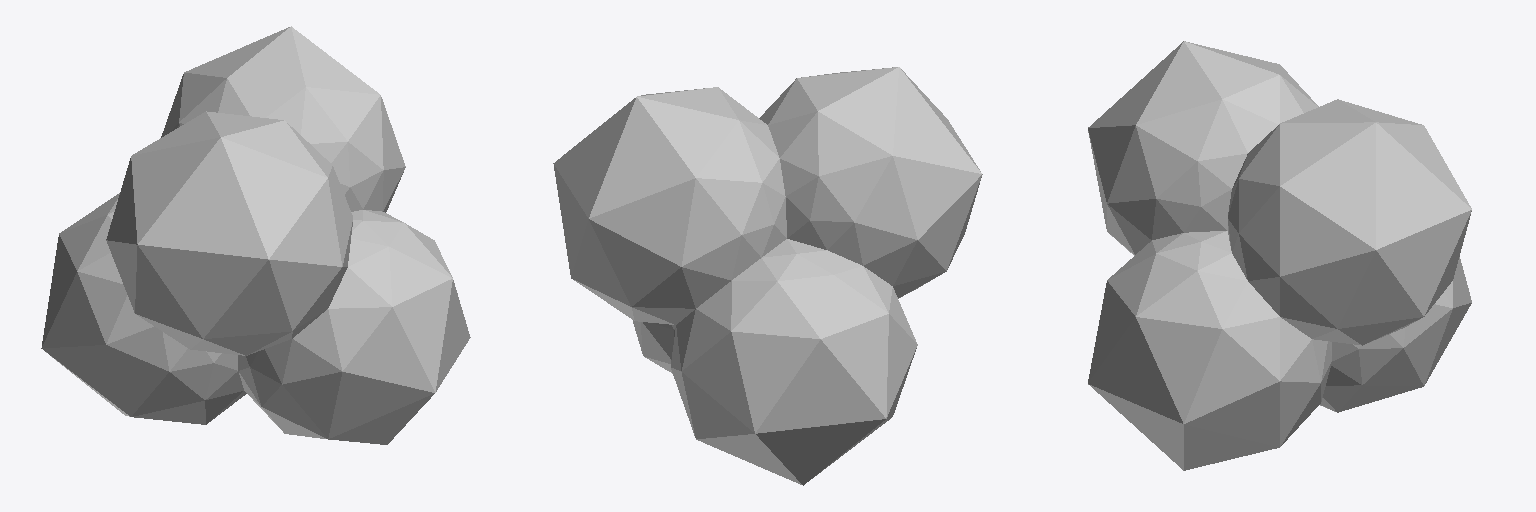
The model's file is multi-box.obj.
3 renders of one model, left to right at view 1: azimuth 30°, elevation 25°; view 2: azimuth 150°, elevation 25°; view 3: azimuth 270°, elevation 25°, orthographic.
Parts seen in each view (by area): view 1: Dual of TetrahedralParaboloidIntersections; view 2: Dual of TetrahedralParaboloidIntersections; view 3: Dual of TetrahedralParaboloidIntersections.
Boxes of the visible parts, box(x1,y1,x2,y2) form: Dual of TetrahedralParaboloidIntersections: box(41, 26, 470, 444); Dual of TetrahedralParaboloidIntersections: box(553, 67, 982, 485); Dual of TetrahedralParaboloidIntersections: box(1088, 41, 1471, 470).
Size of the model in its own units: 118 by 118 by 118.